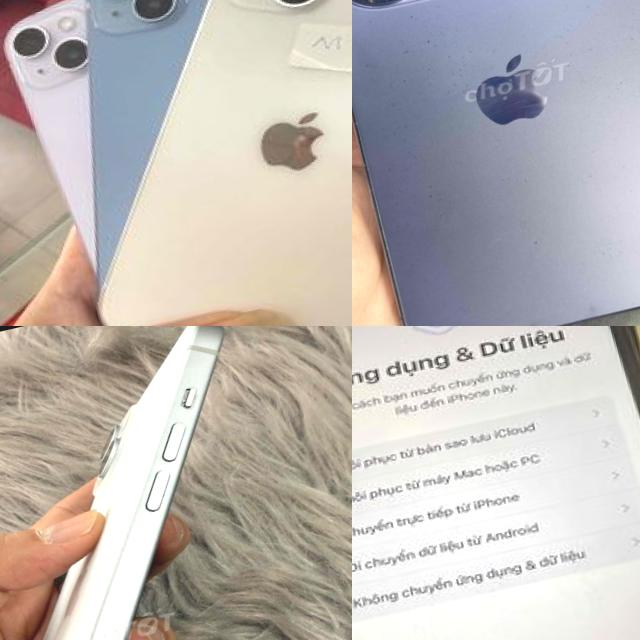gen_14: (10, 0, 352, 326), (352, 0, 640, 326)
gen_15: (0, 326, 352, 640)
gen_7_8: (352, 326, 640, 640)
scratch: (81, 569, 143, 638)
